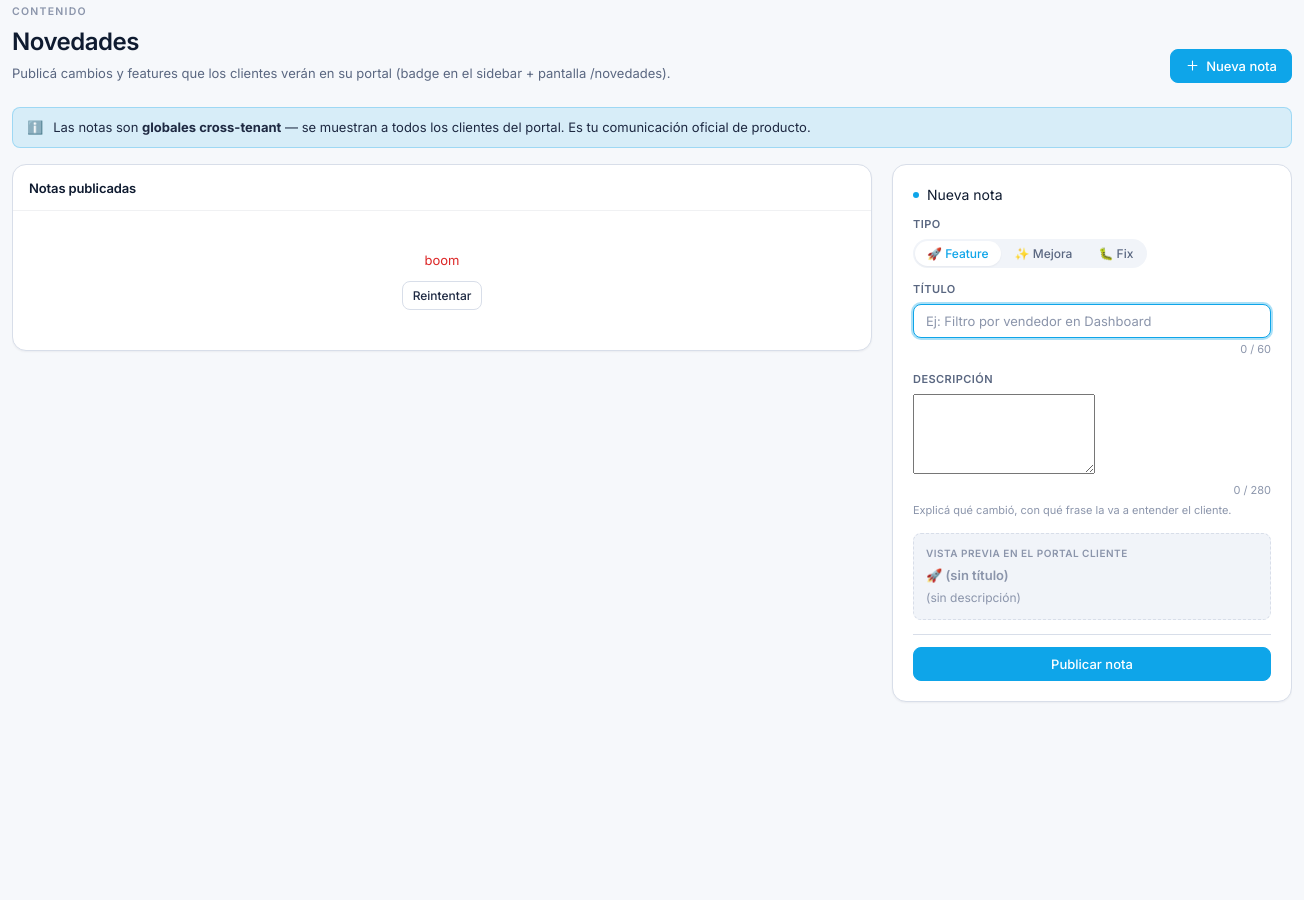
it: Admin Novedades — CMS release notes › error state + botón Reintentar
Expected: the text "boom" is shown, [424,252,459,268]
Click the button "Reintentar": (442, 296) [402,281,482,310]
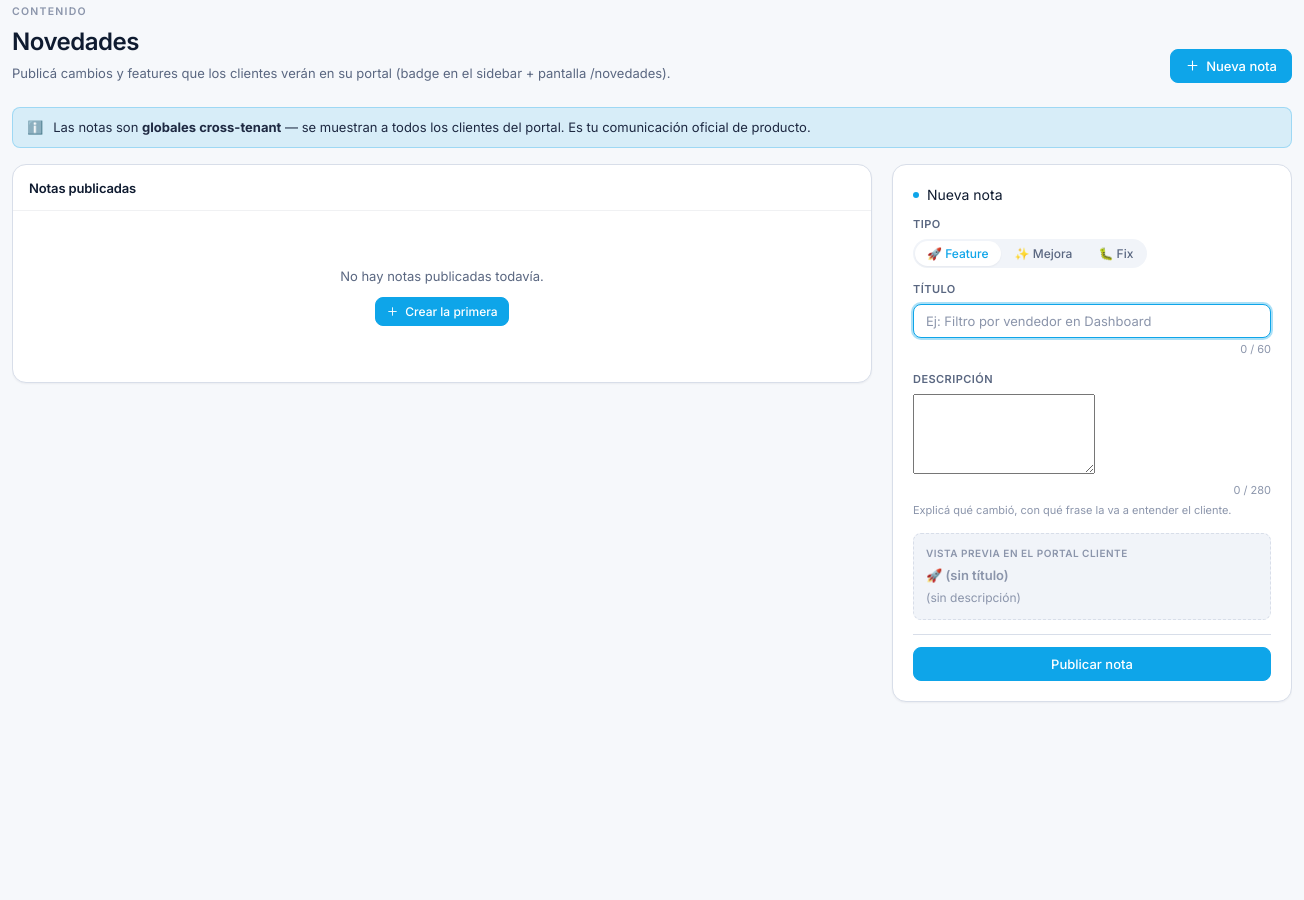
Now the text "No hay notas publicadas todavía. Crear la primera" is shown, box [340,268,544,326]
